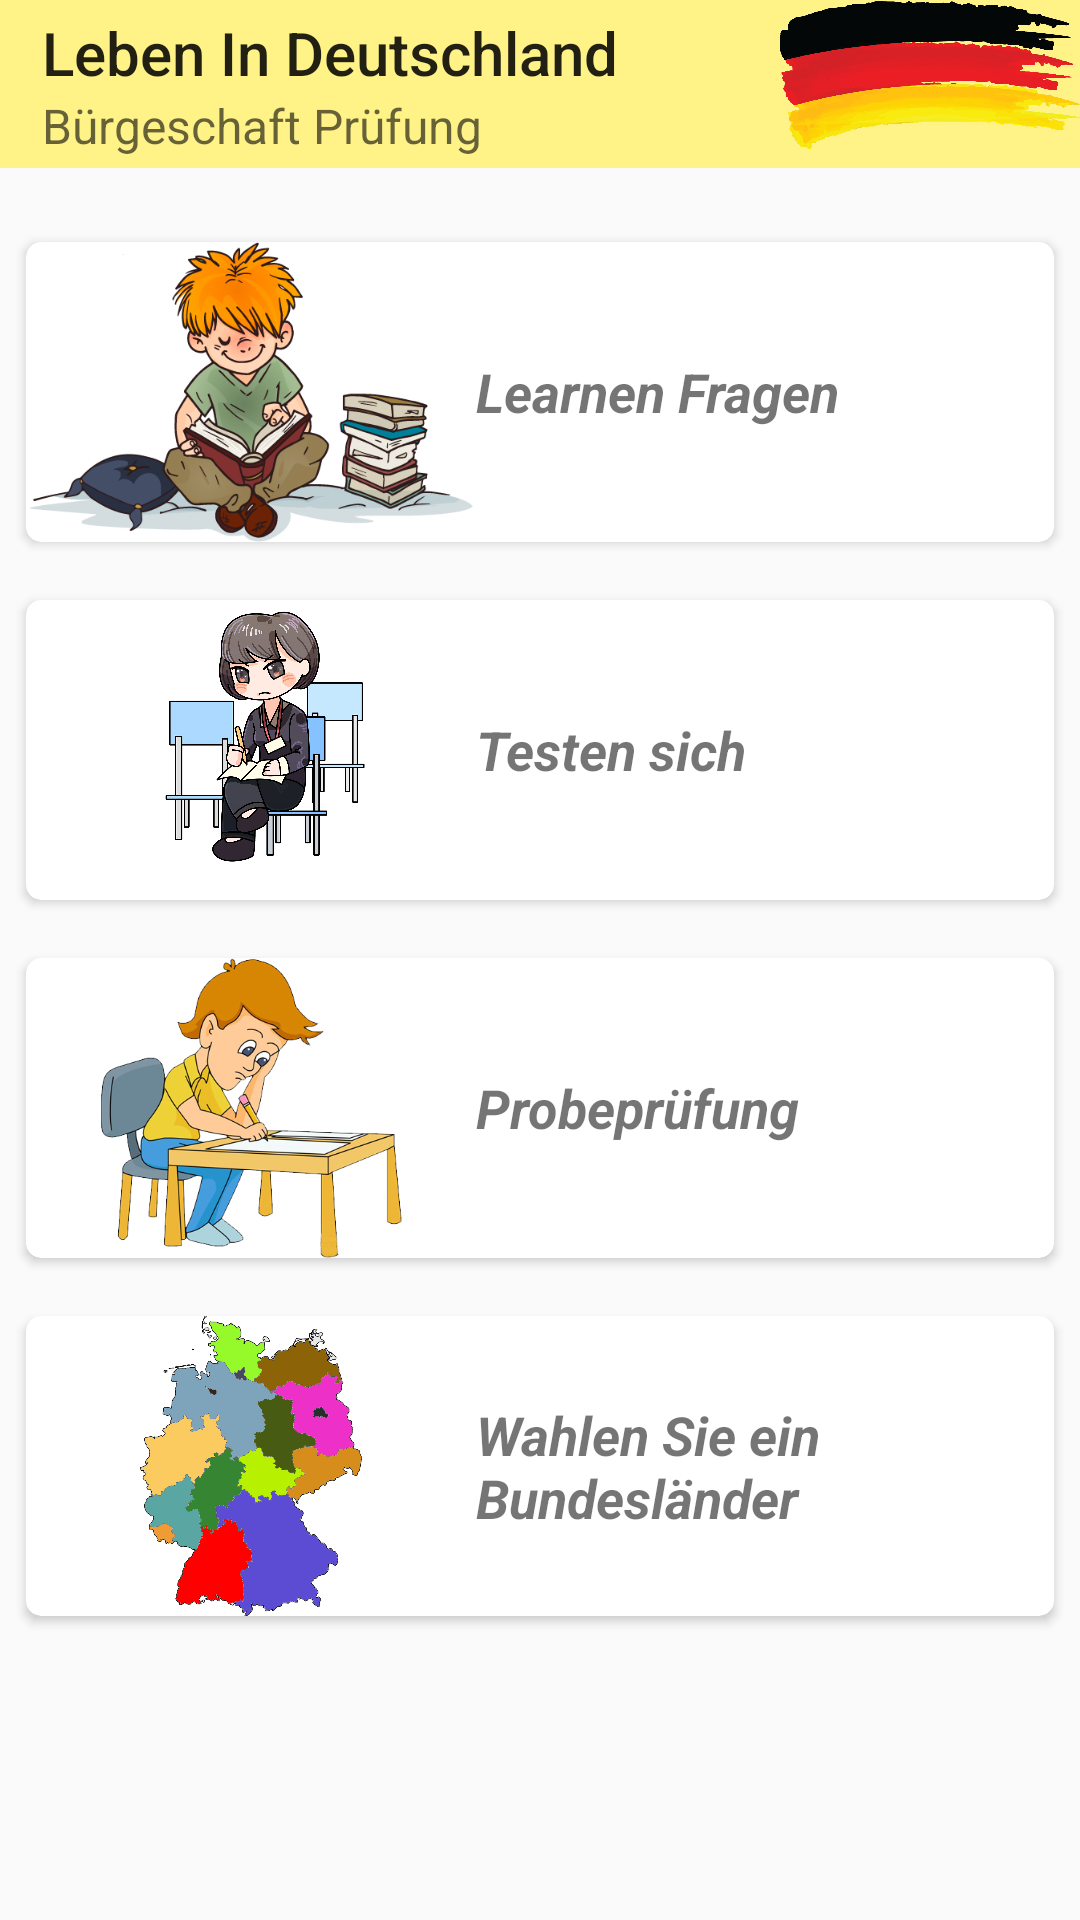

Where to tap for icons on this 1080x1920 app screen, as [x,y]:
bundeslander: [194,1466]
flag: [930,75]
